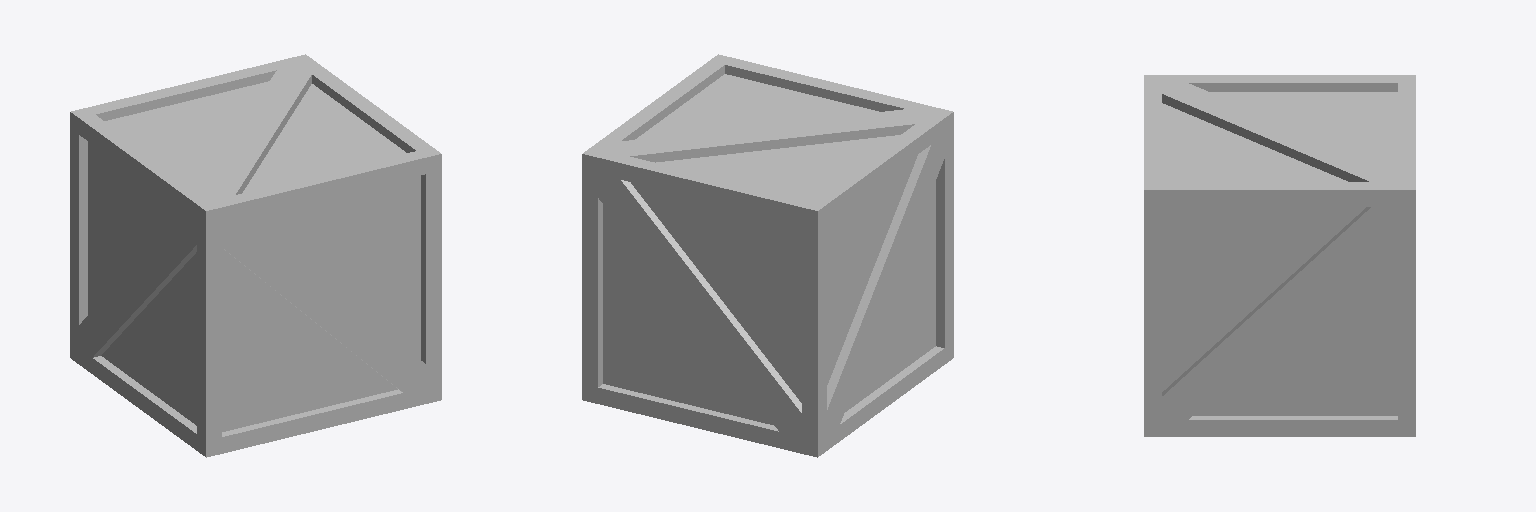
3 renders of one model, left to right at view 1: azimuth 30°, elevation 25°; view 2: azimuth 150°, elevation 25°; view 3: azimuth 270°, elevation 25°, orthographic.
Visible parts, largest first — view 1: 立方體.001; view 2: 立方體.001; view 3: 立方體.001.
Part boxes in pixels (left/top/right/bottom): 立方體.001: left=70, top=54, right=441, bottom=457; 立方體.001: left=582, top=54, right=953, bottom=457; 立方體.001: left=1144, top=75, right=1415, bottom=436.
Size of the model in its own units: 2 by 2 by 2.